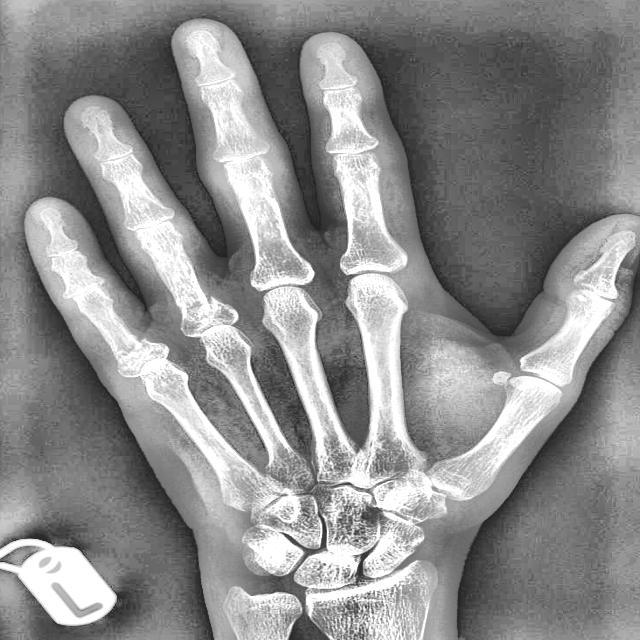fracture: (114, 337, 148, 362), (203, 293, 218, 313)
